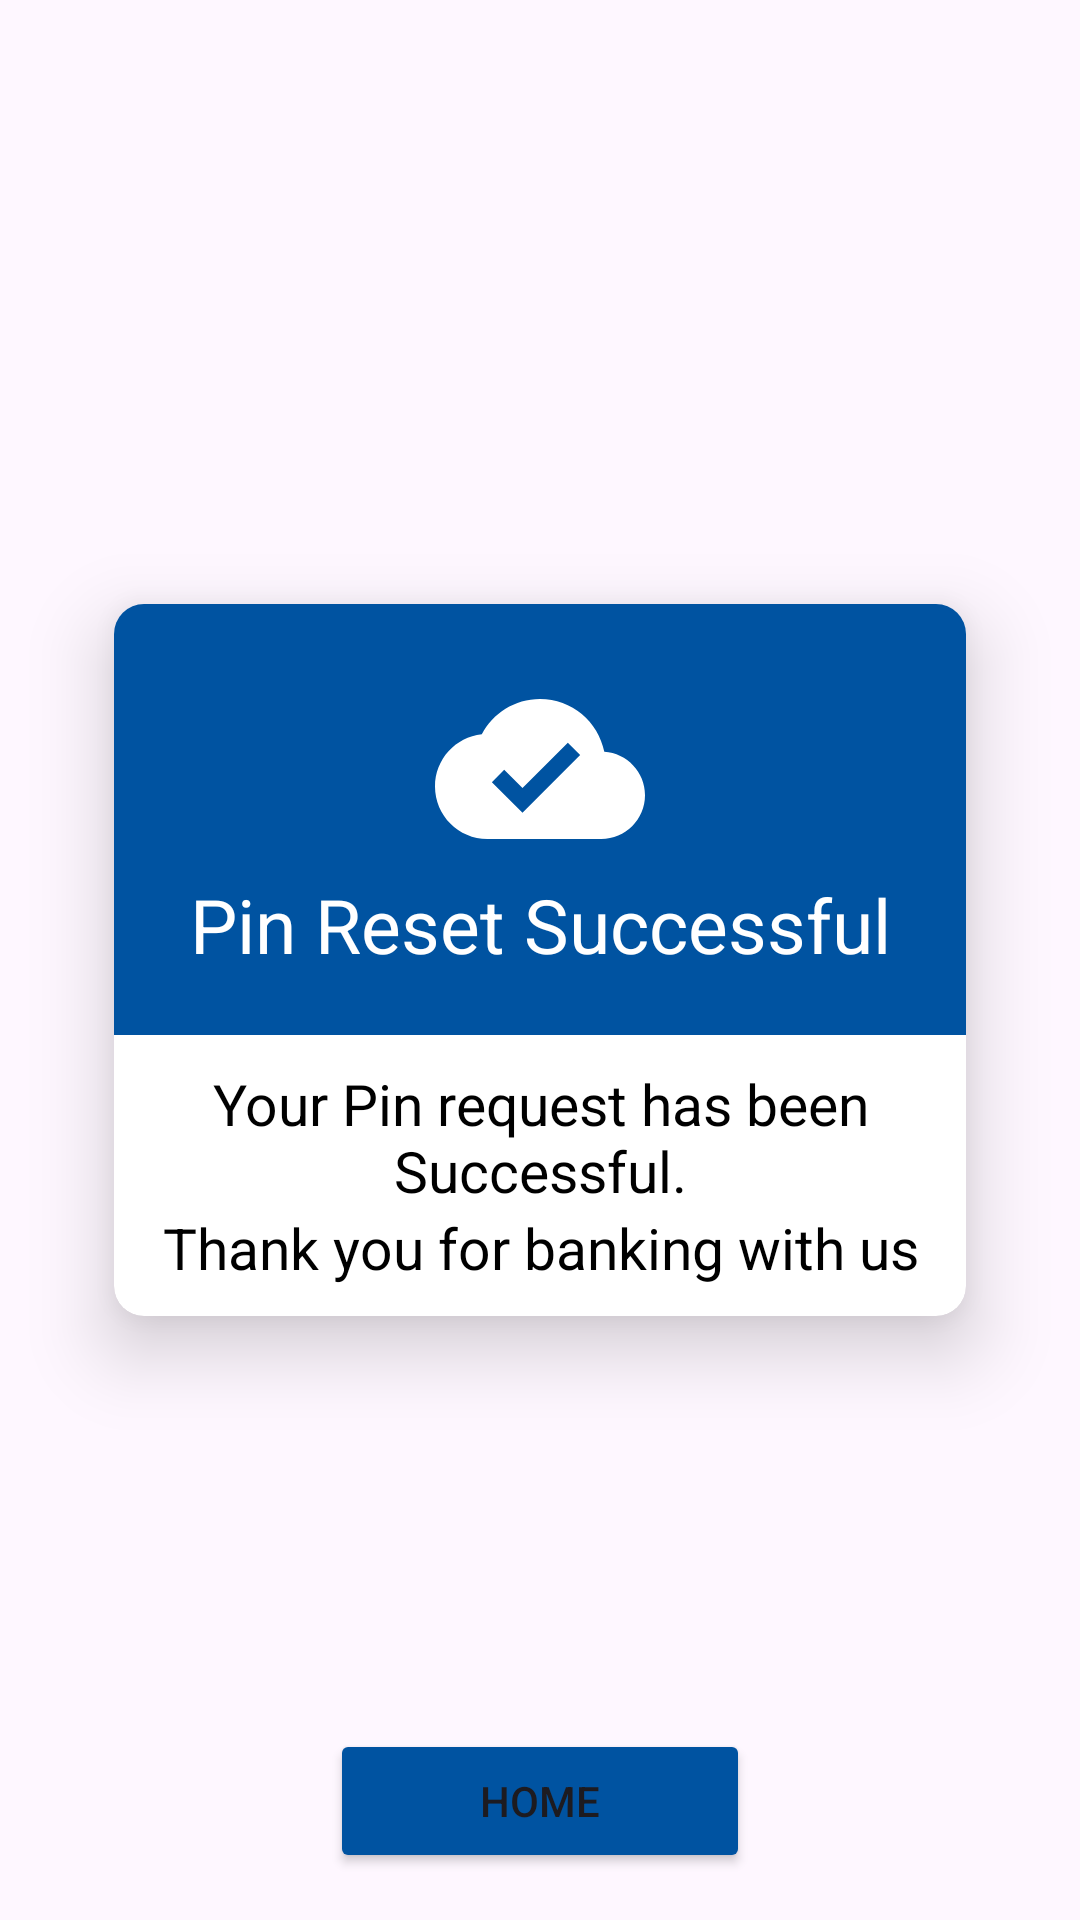

Where icons sit on this 1080*1920 app screen, as region(x1, y1, x2, y2):
done reset: region(435, 699, 645, 839)
